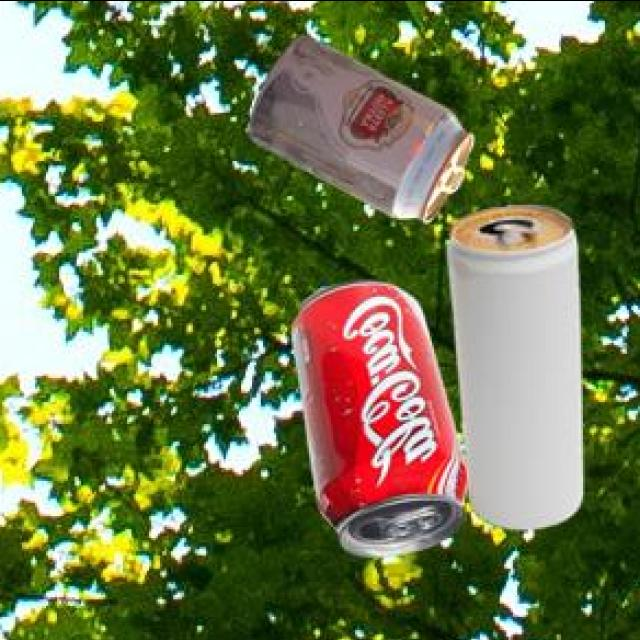logam: (295, 284, 470, 560), (450, 207, 586, 532), (253, 38, 477, 225)
